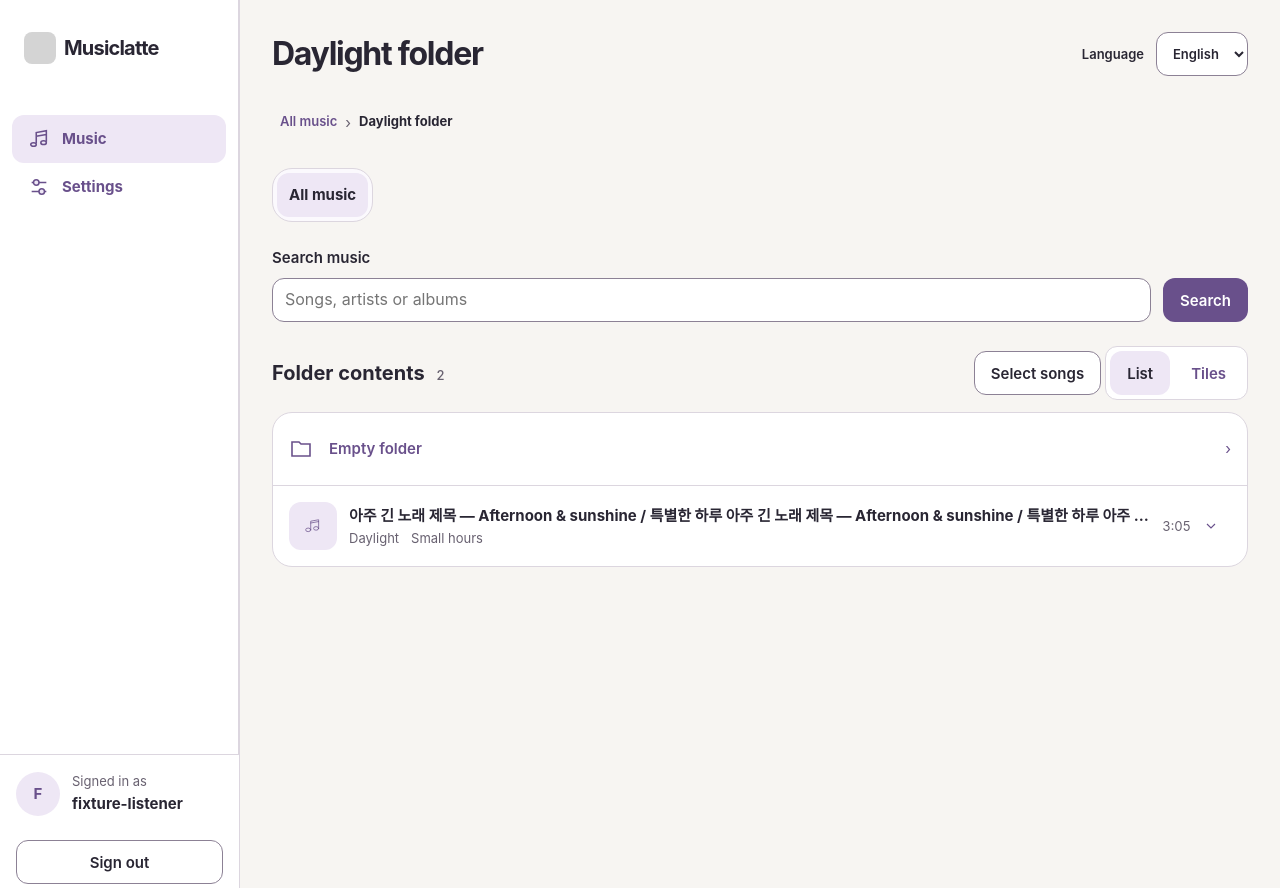
Test: library UI › should return to the source folder after requerying and paging search results
The image size is (1280, 888).
expect the heading "Daylight folder" is shown: met, box [272, 35, 483, 73]
Type "hello" into the search field labelled "Search music" at point(712, 300), box [272, 278, 1151, 322]
Then press Enter
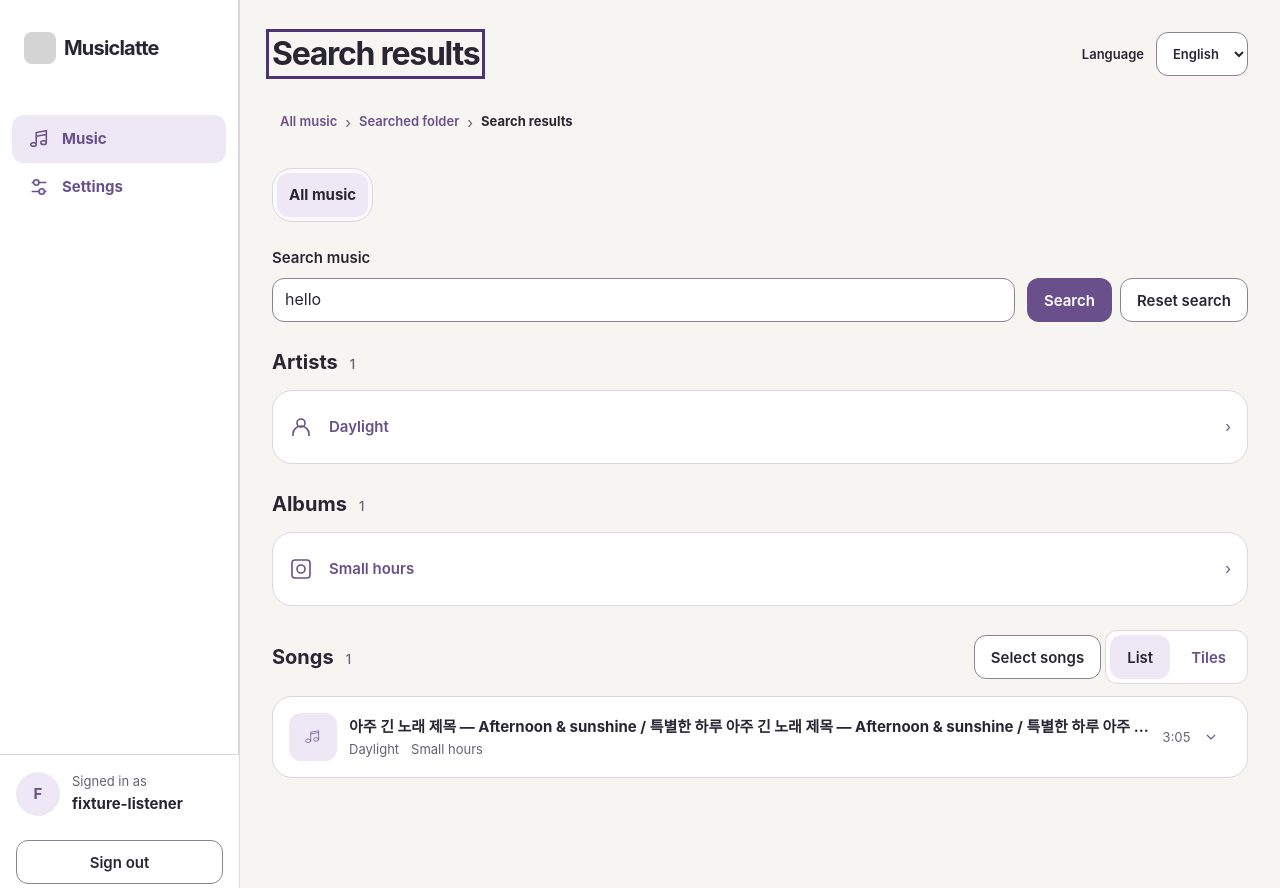
expect the heading "Search results" is shown: met, box [272, 35, 479, 73]
expect the navigation bar named "Current location" shows "Searched folder": met, box [351, 100, 467, 144]
Replace the text in the search field labelled "Search music" with "pages" at point(644, 300), box [272, 278, 1015, 322]
Then press Enter
(page scrolled)
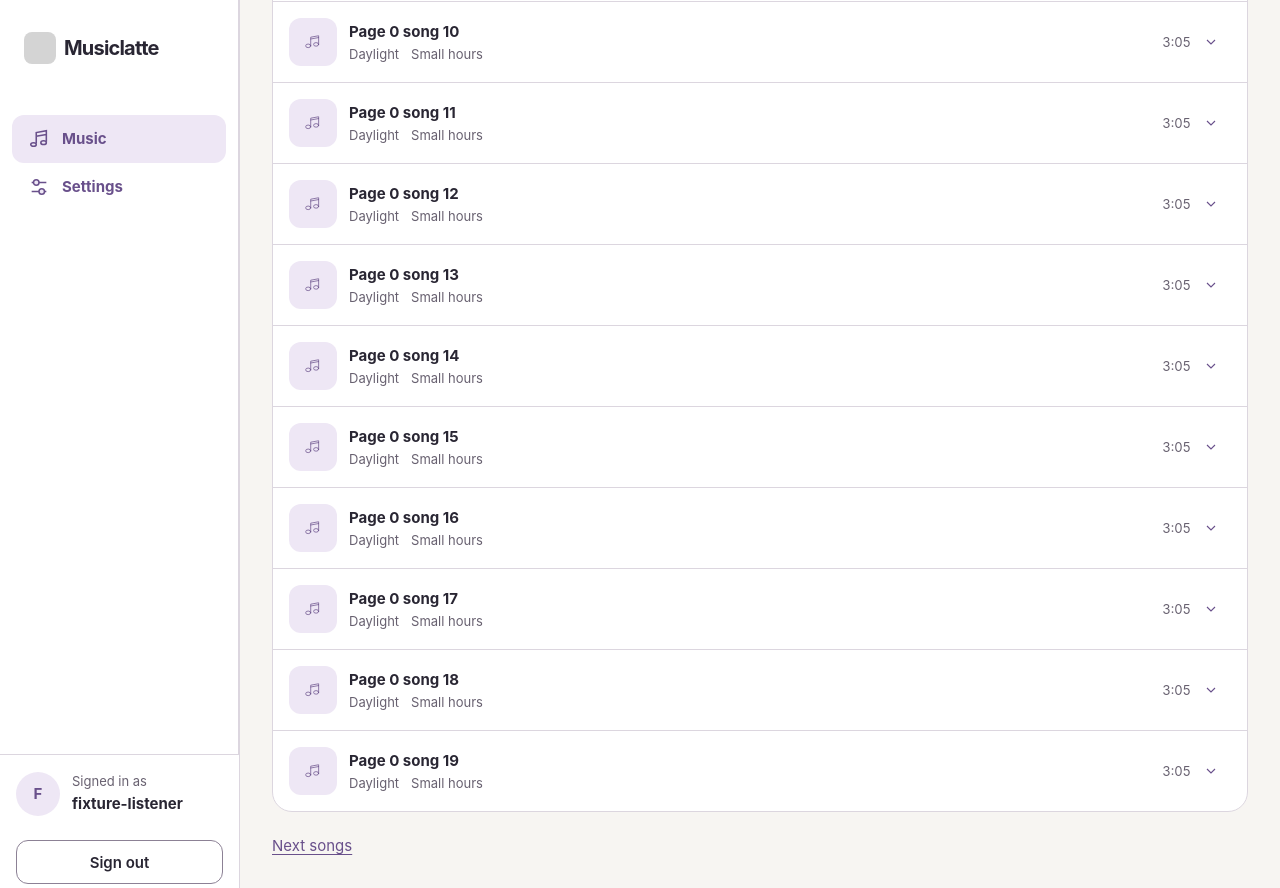
Click the link "Next songs" at point(312, 846), box [272, 836, 352, 855]
(page scrolled)
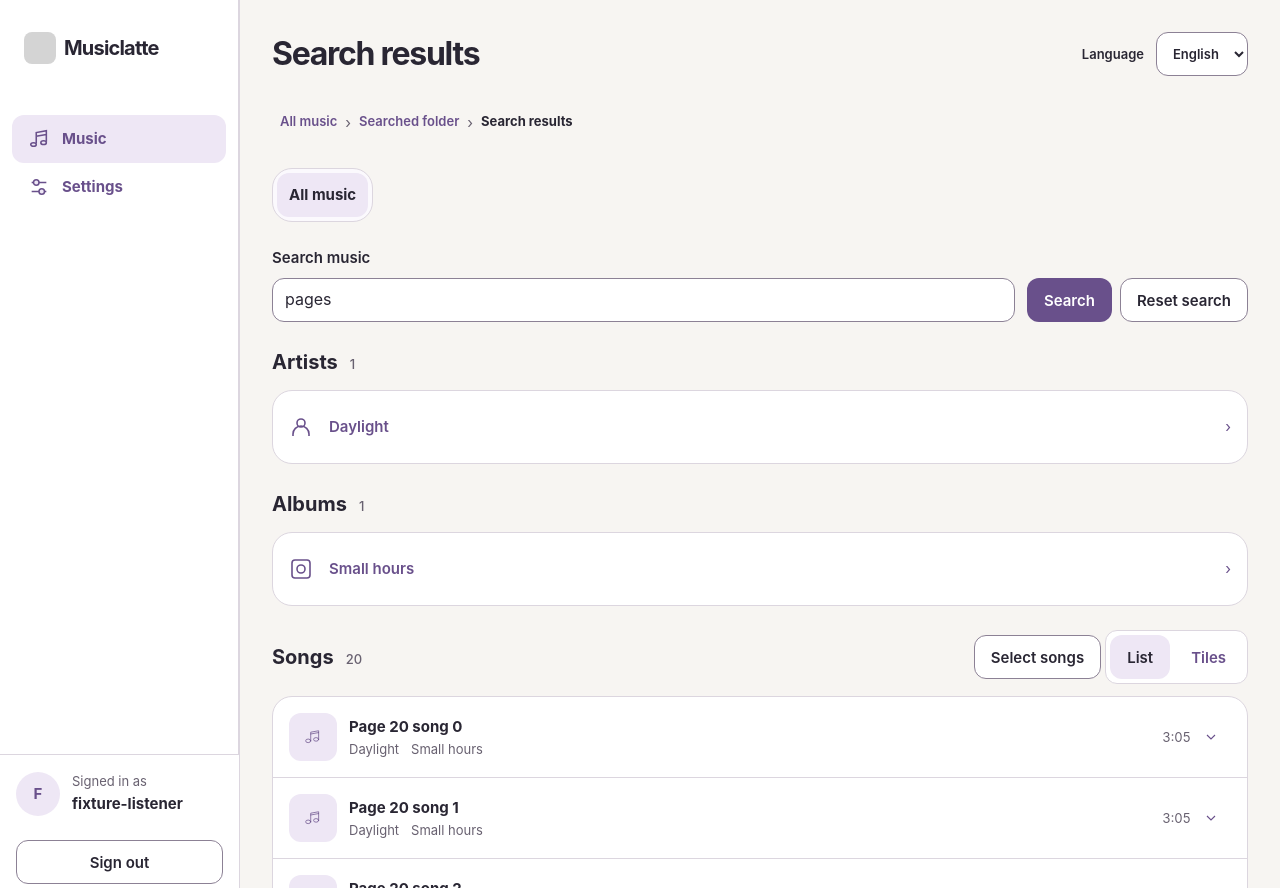
expect the text "Page 20 song 0" is shown: met, box [349, 717, 462, 736]
Click the button "Reset search" at point(1184, 300), box [1120, 278, 1248, 322]
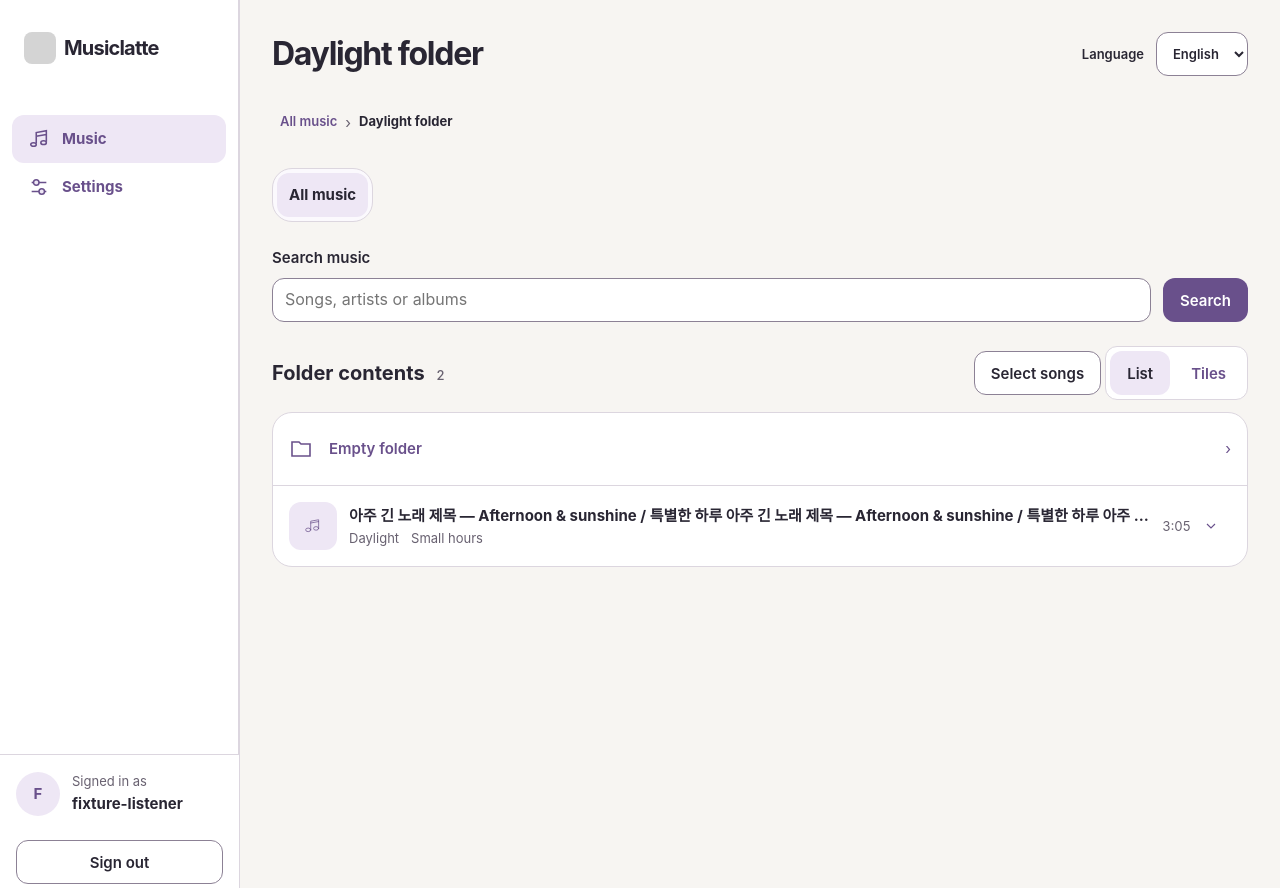
expect the heading "Daylight folder" is shown: met, box [272, 35, 483, 73]
expect the heading "Folder contents 2" is shown: met, box [272, 357, 445, 389]
